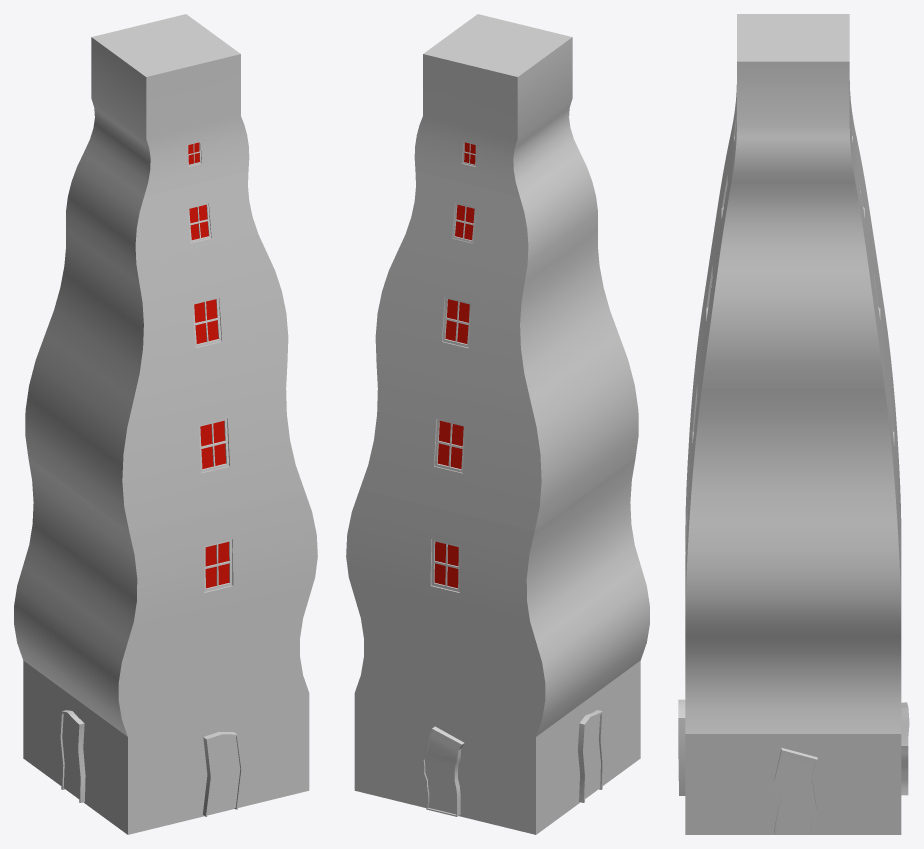
File: CenterRoom.fbx
3 views of the same model, side by side, from view 1: azimuth 30°, elevation 25°; view 2: azimuth 150°, elevation 25°; view 3: azimuth 270°, elevation 25° (orthographic). The views are drawn at different scales.
Parts seen in each view (by area): view 1: CenterRoom, CenterWindows, CenterDoors; view 2: CenterRoom, CenterWindows, CenterDoors; view 3: CenterRoom, CenterDoors.
Part boxes in pixels (box(x1,y1,x2,y2)): CenterRoom: box(14, 14, 317, 834); CenterWindows: box(187, 141, 232, 591); CenterDoors: box(59, 710, 242, 816); CenterRoom: box(346, 14, 649, 834); CenterWindows: box(431, 141, 476, 591); CenterDoors: box(422, 710, 603, 816); CenterRoom: box(685, 14, 901, 834); CenterDoors: box(678, 699, 909, 834).
Bounding box in the file's own units: 659 × 2305 × 642.
